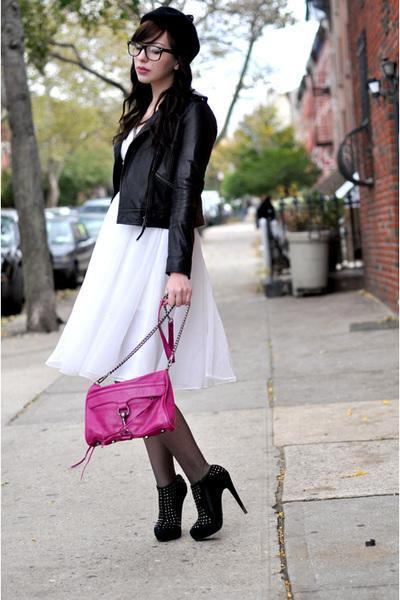bag: (85, 363, 176, 447)
dress: (46, 108, 235, 388)
jacket: (108, 89, 213, 275)
shoe: (133, 468, 246, 535)
